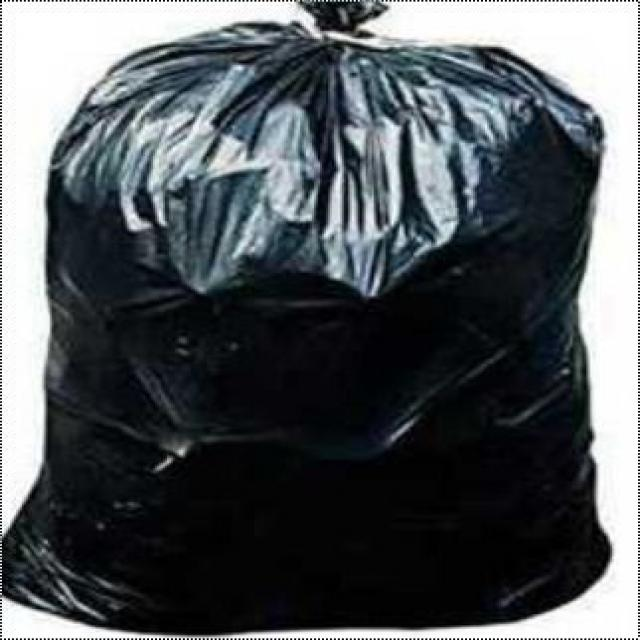plastic_bag: (11, 42, 599, 618)
